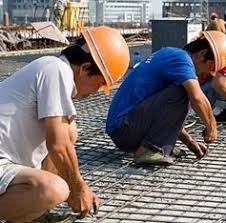helmet: (77, 23, 131, 89), (200, 26, 226, 73)
person with partial safety: (4, 23, 133, 217), (122, 10, 226, 161)
